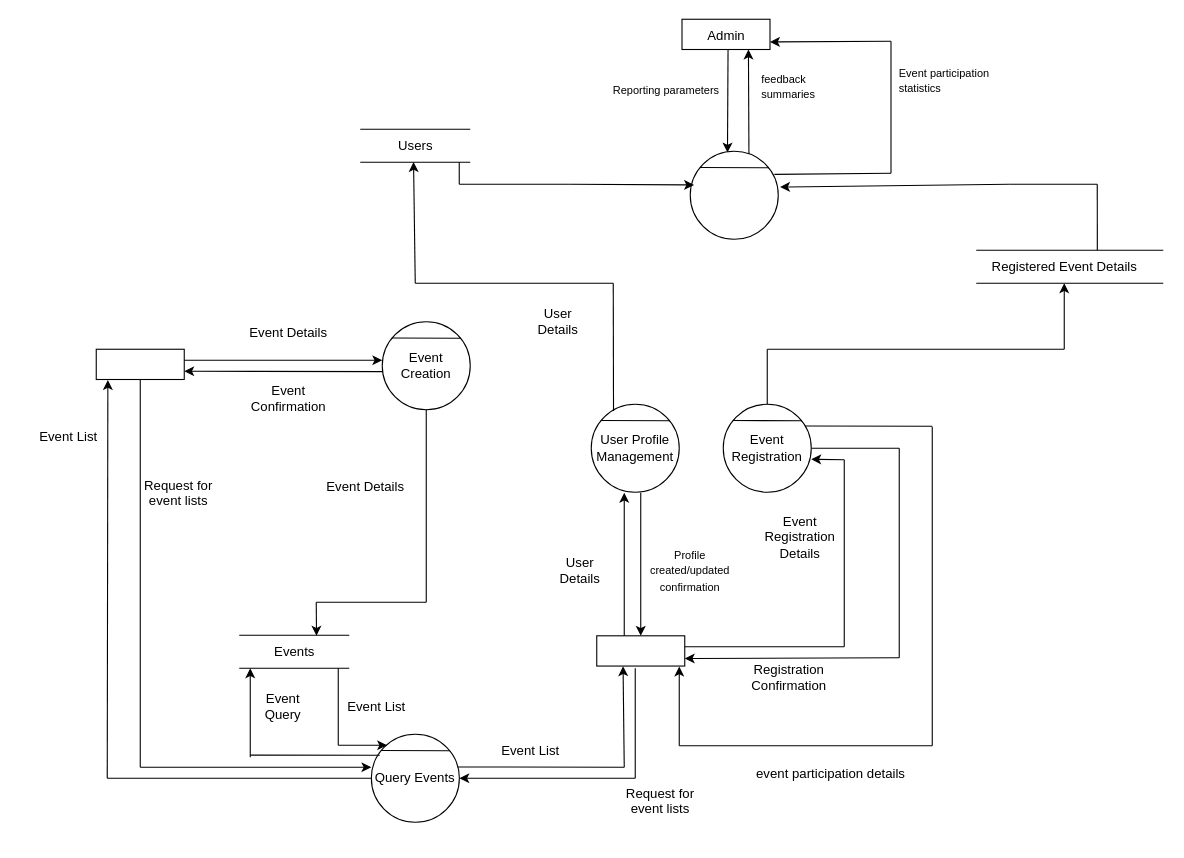
The diagram is 1184 pixels wide and 858 high, and some of its shapes have lost their labels. Here are the shapes that lost their labels. From the top down, the box of each, then its label:
(689, 150, 778, 239): Report/Feedback Management
(95, 348, 184, 380): Organizer
(596, 635, 685, 666): Participant
